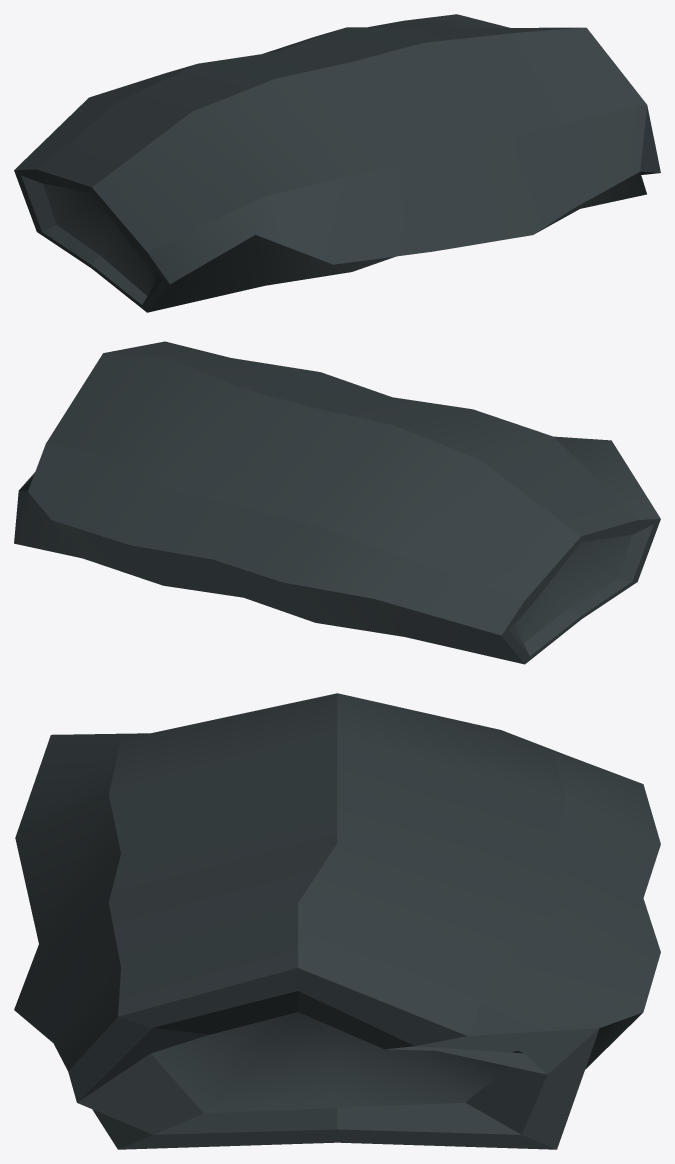
File: Tin_can_dead.fbx
3 renders of one model, top to bottom at view 1: azimuth 30°, elevation 25°; view 2: azimuth 150°, elevation 25°; view 3: azimuth 270°, elevation 25°, orthographic. The views are drawn at different scales.
Visible parts, largest first — view 1: Tin_Can_dead; view 2: Tin_Can_dead; view 3: Tin_Can_dead.
Boxes of the visible parts, x1=… form: Tin_Can_dead: x1=14, y1=14, x2=660, y2=312; Tin_Can_dead: x1=14, y1=341, x2=660, y2=664; Tin_Can_dead: x1=14, y1=693, x2=660, y2=1149.
Size of the model in its own units: 1.07 by 0.3161 by 0.8384.
